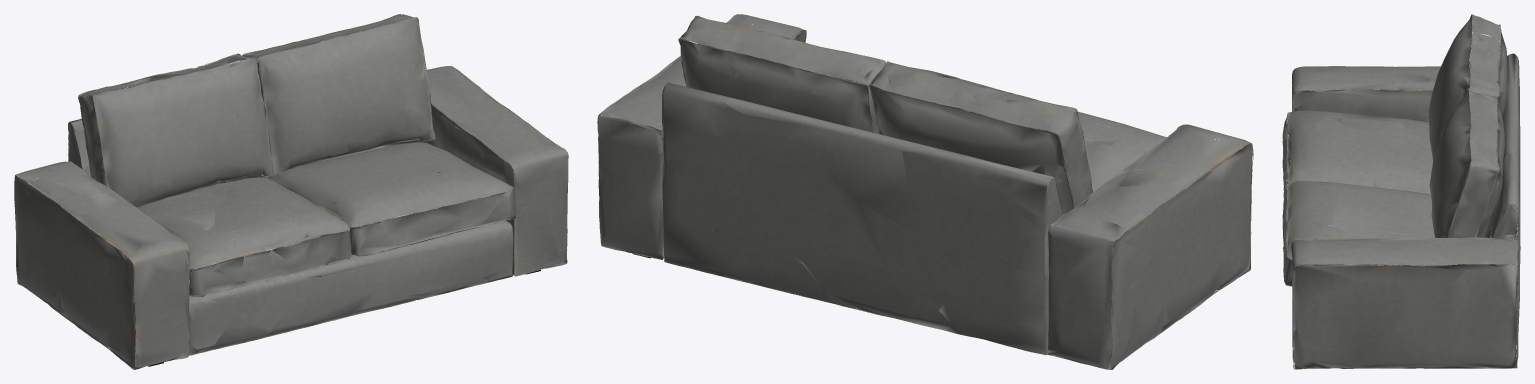
The model's file is cover-tibbleby-bezowy-szary.glb.
3 views of the same model, side by side, from view 1: azimuth 30°, elevation 25°; view 2: azimuth 150°, elevation 25°; view 3: azimuth 270°, elevation 25° (orthographic). The views are drawn at different scales.
Parts seen in each view (by area): view 1: 09440599; view 2: 09440599; view 3: 09440599.
Part boxes in pixels (x1,y1,x2,y2): 09440599: [14, 14, 568, 369]; 09440599: [597, 14, 1253, 369]; 09440599: [1282, 14, 1520, 369].
Bounding box in the file's own units: 1.9 × 0.8302 × 0.9503.
Materials: 3 (3 with a texture image).
